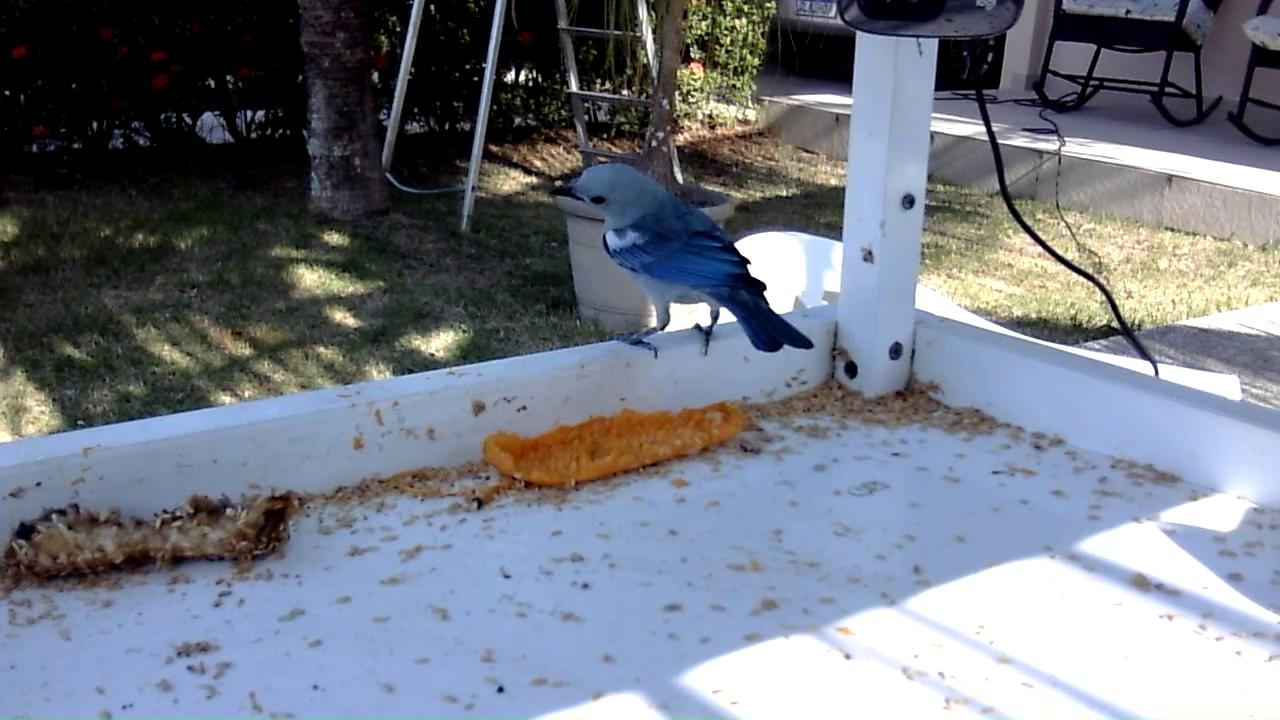sanhaco_da_amazonia: (549, 161, 819, 362)
